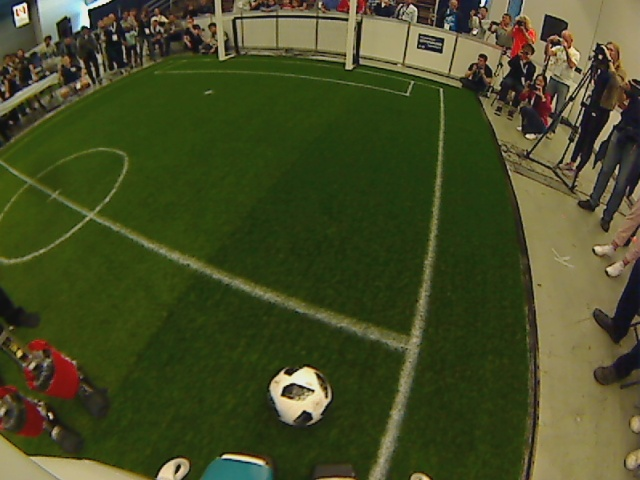ball: (265, 362, 332, 431)
